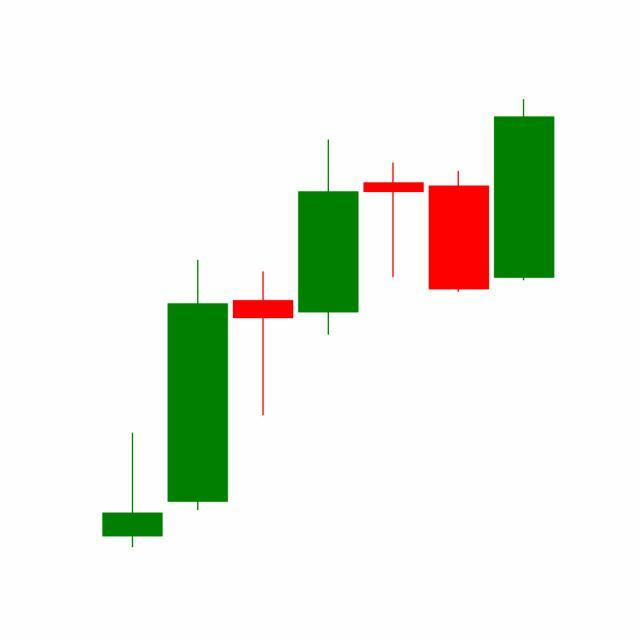Hikkake Pattern: (165, 136, 492, 515)
